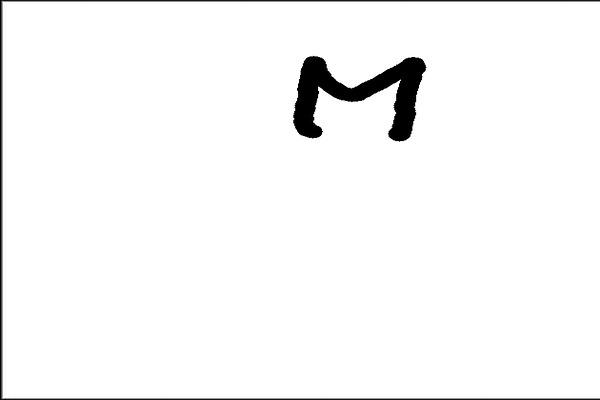M: (290, 47, 422, 143)
